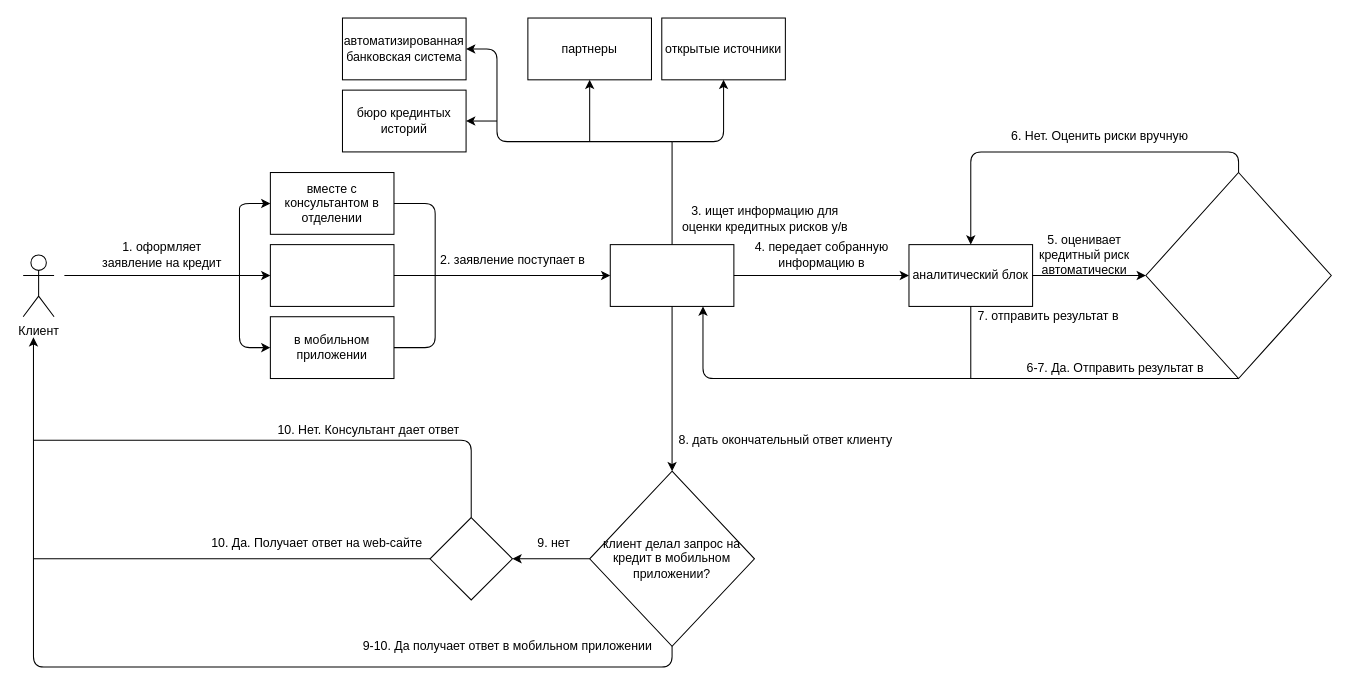
This 1349x693 diagram has some shape labels left out. Here are the shapes that lost their labels. From the top down, the centre of each, then its label:
At (331,275): "на web-сайте".
At (671,275): "блок принятия решений".
At (1238,275): "резельтат оценки от 0 до 30 либо от 70 до 99 ?".
At (470,558): "на web-сайте?".
